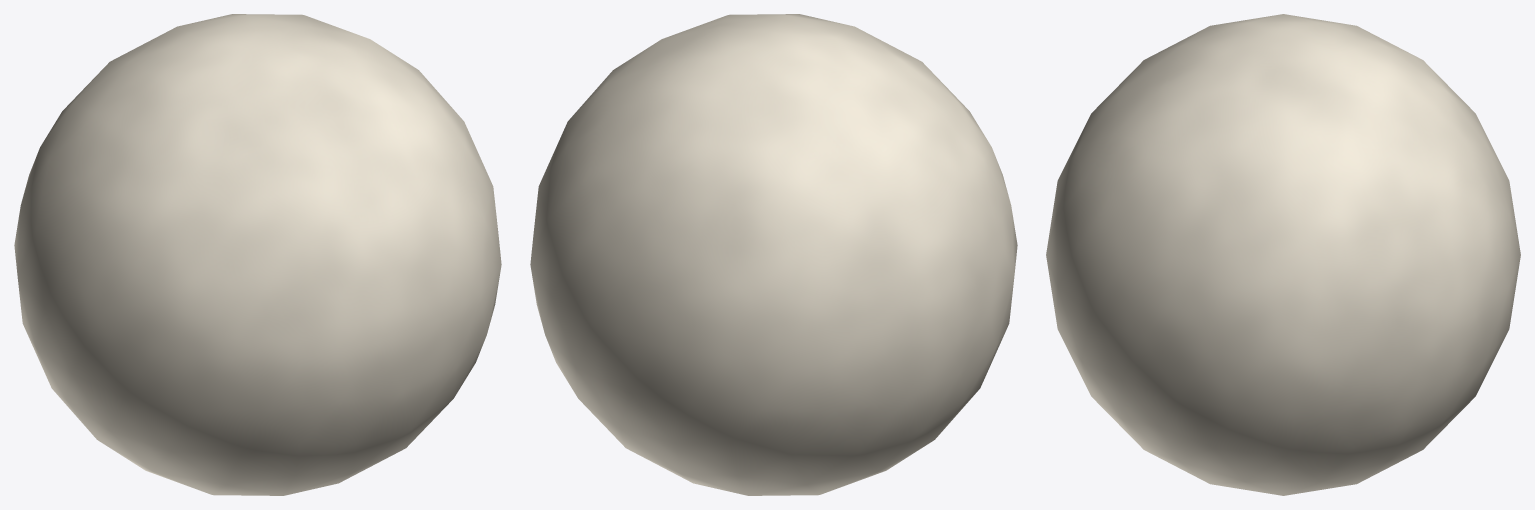
File: pearl_white.fbx
3 renders of one model, left to right at view 1: azimuth 30°, elevation 25°; view 2: azimuth 150°, elevation 25°; view 3: azimuth 270°, elevation 25°, orthographic.
Visible parts, largest first — view 1: pearl_white.001; view 2: pearl_white.001; view 3: pearl_white.001.
Boxes of the visible parts, box(x1,y1,x2,y2) form: pearl_white.001: box(14, 14, 501, 495); pearl_white.001: box(530, 14, 1017, 495); pearl_white.001: box(1046, 14, 1520, 495).
Bounding box in the file's own units: 0.045 × 0.0446 × 0.044.
Materials: 1 (1 with a texture image).
